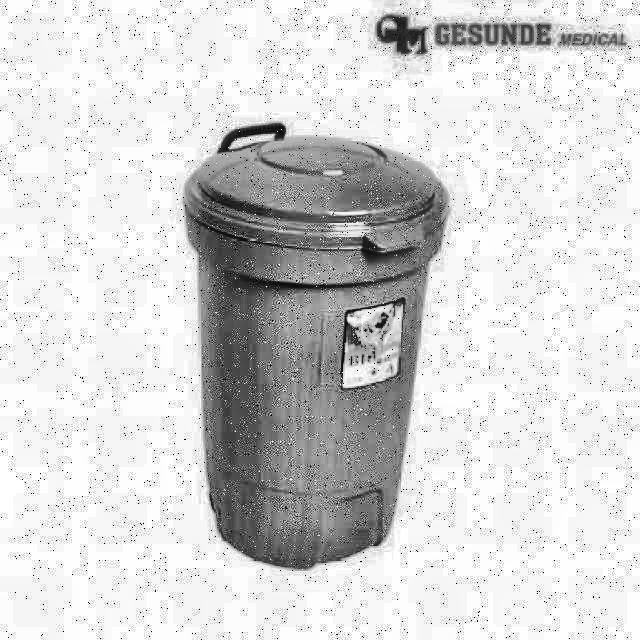Dustbin: (162, 116, 464, 587)
